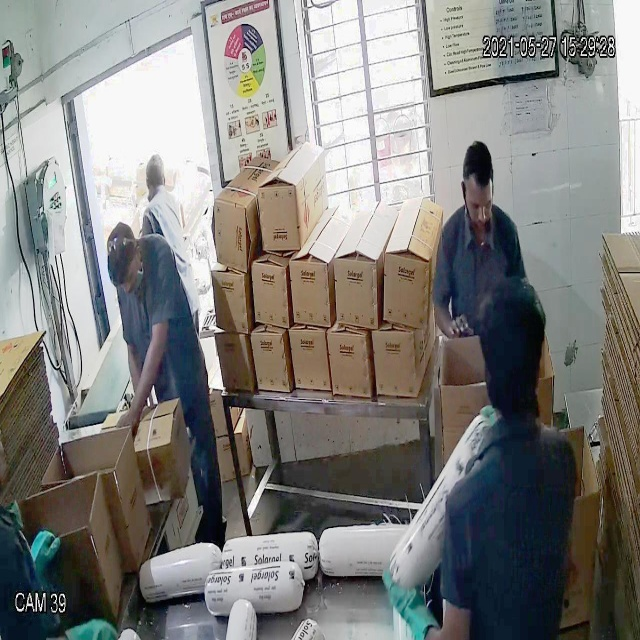Sin_gafas: (460, 187, 500, 218)
